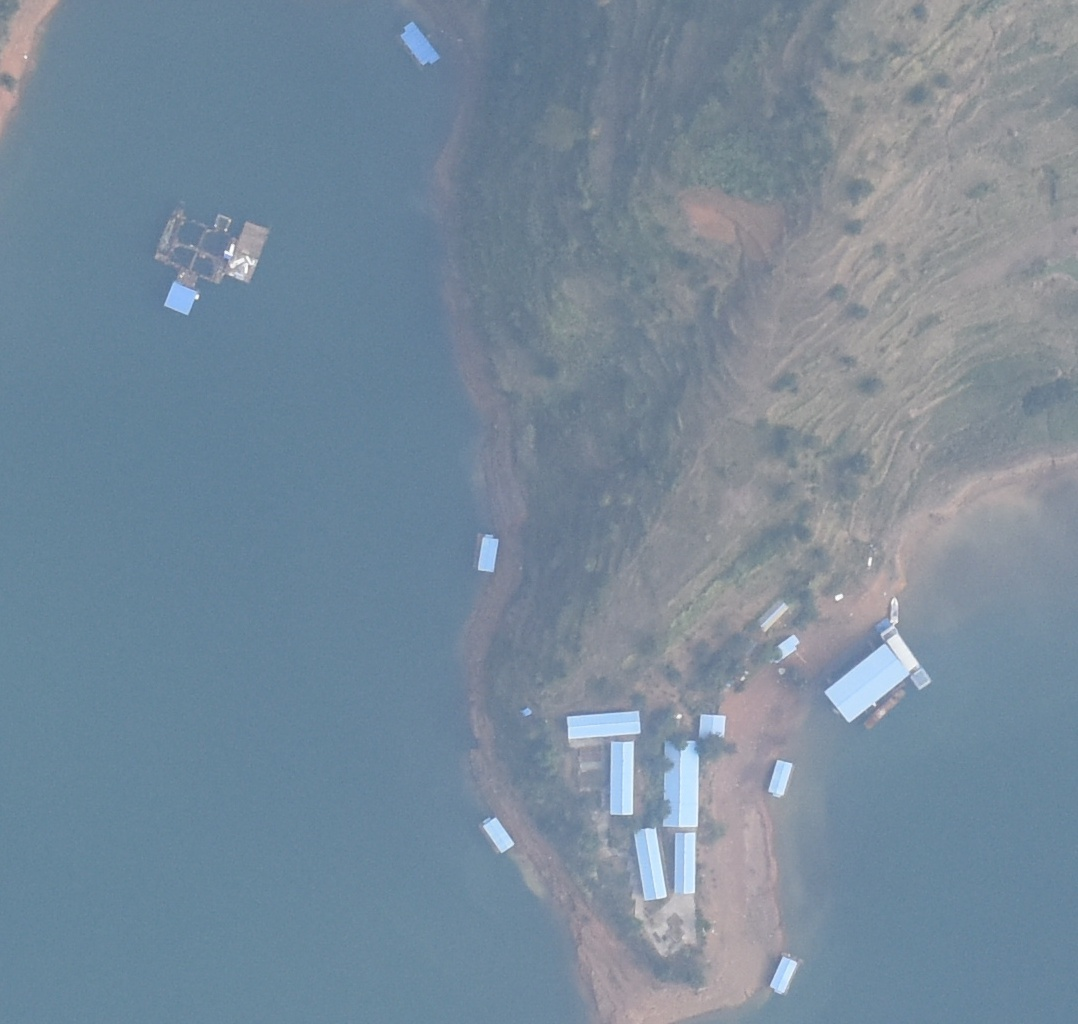cultivation-mesh-cage: (155, 199, 235, 283)
prefabricated-house: (826, 644, 911, 722), (662, 740, 698, 828), (632, 827, 668, 902), (565, 711, 642, 738), (399, 21, 442, 68), (610, 742, 634, 814), (753, 596, 790, 635), (674, 831, 696, 896), (162, 280, 198, 316), (481, 816, 516, 853), (764, 635, 801, 664), (770, 956, 797, 995), (474, 533, 499, 572), (768, 760, 792, 798), (698, 714, 725, 738)
ship: (874, 617, 933, 690), (865, 687, 907, 730), (890, 597, 899, 624)
